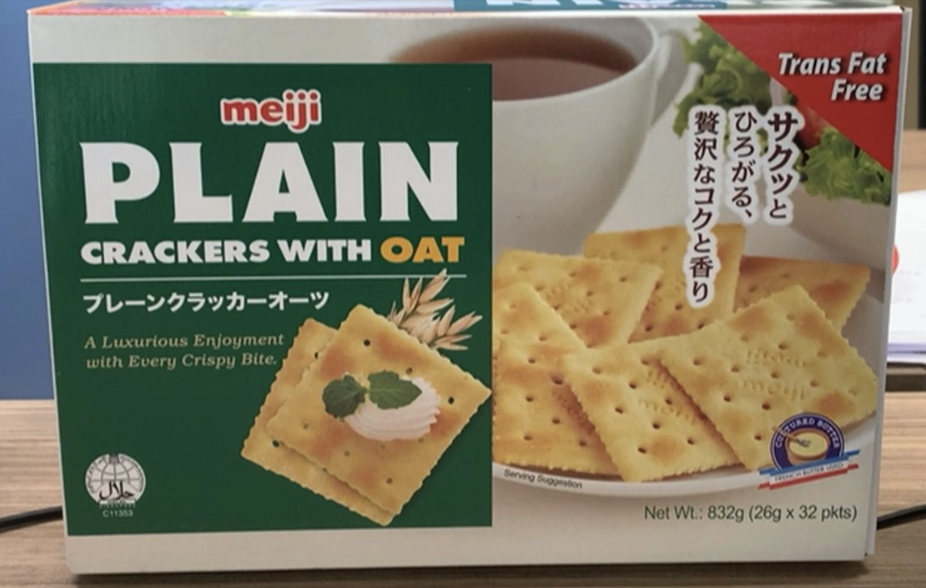crackers_800g-899g: (55, 41, 883, 534)
